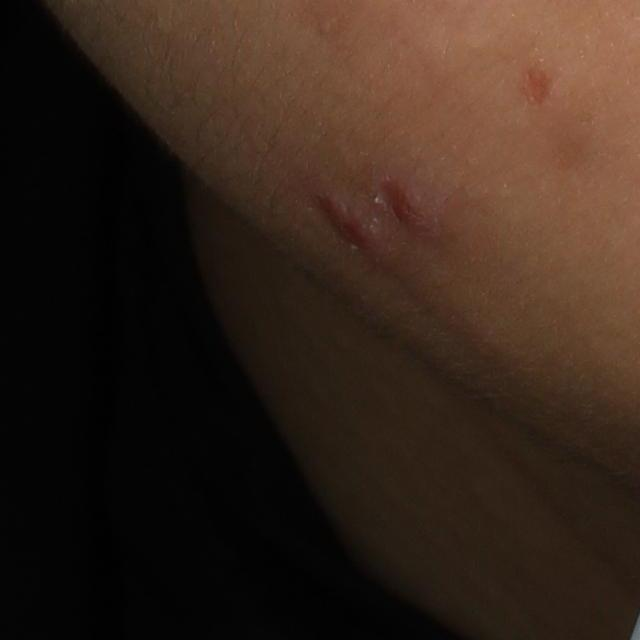papule: (313, 189, 381, 254), (382, 178, 433, 234)
